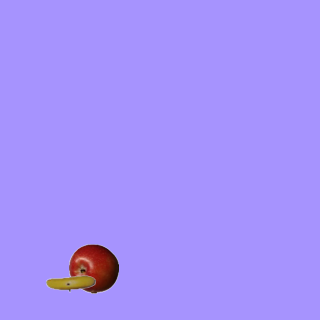Apple Braeburn: (68, 243, 118, 293)
Banana: (45, 258, 95, 308)
